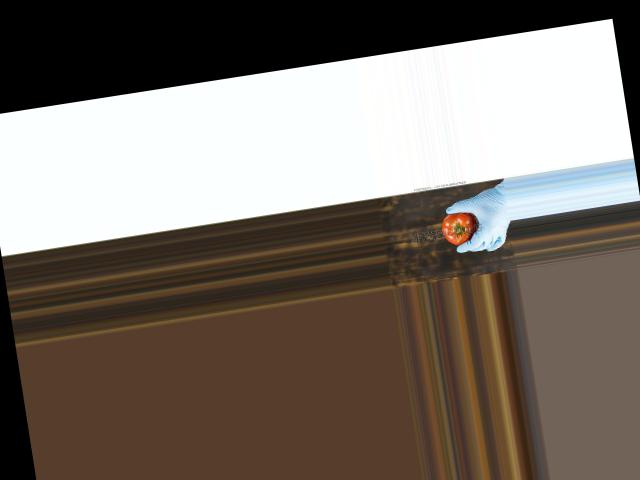tomato: (438, 209, 479, 247)
